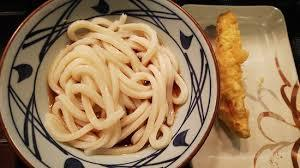bukkake: (2, 1, 213, 168)
